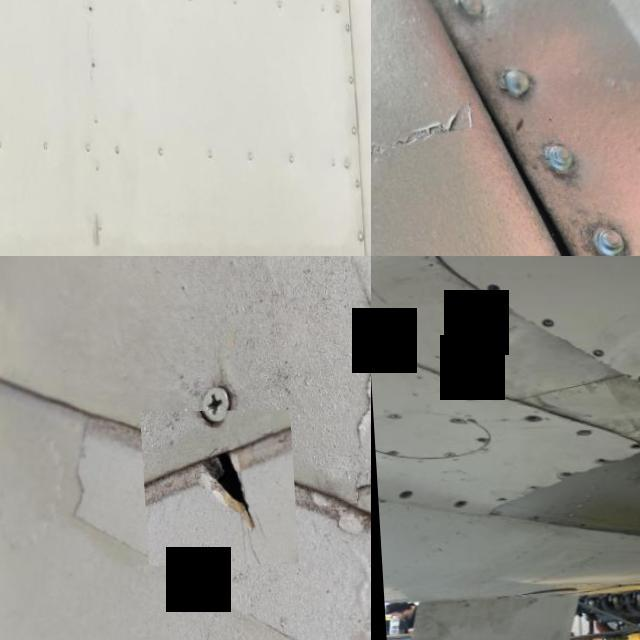Crack: (138, 411, 294, 566)
Missing_Fastener: (534, 317, 556, 331), (484, 283, 502, 297), (586, 349, 606, 359), (448, 498, 466, 509), (624, 443, 640, 453), (371, 357, 385, 368), (394, 490, 409, 500), (521, 414, 537, 423), (630, 373, 640, 385), (592, 457, 604, 467), (554, 472, 568, 479), (491, 496, 502, 504)
